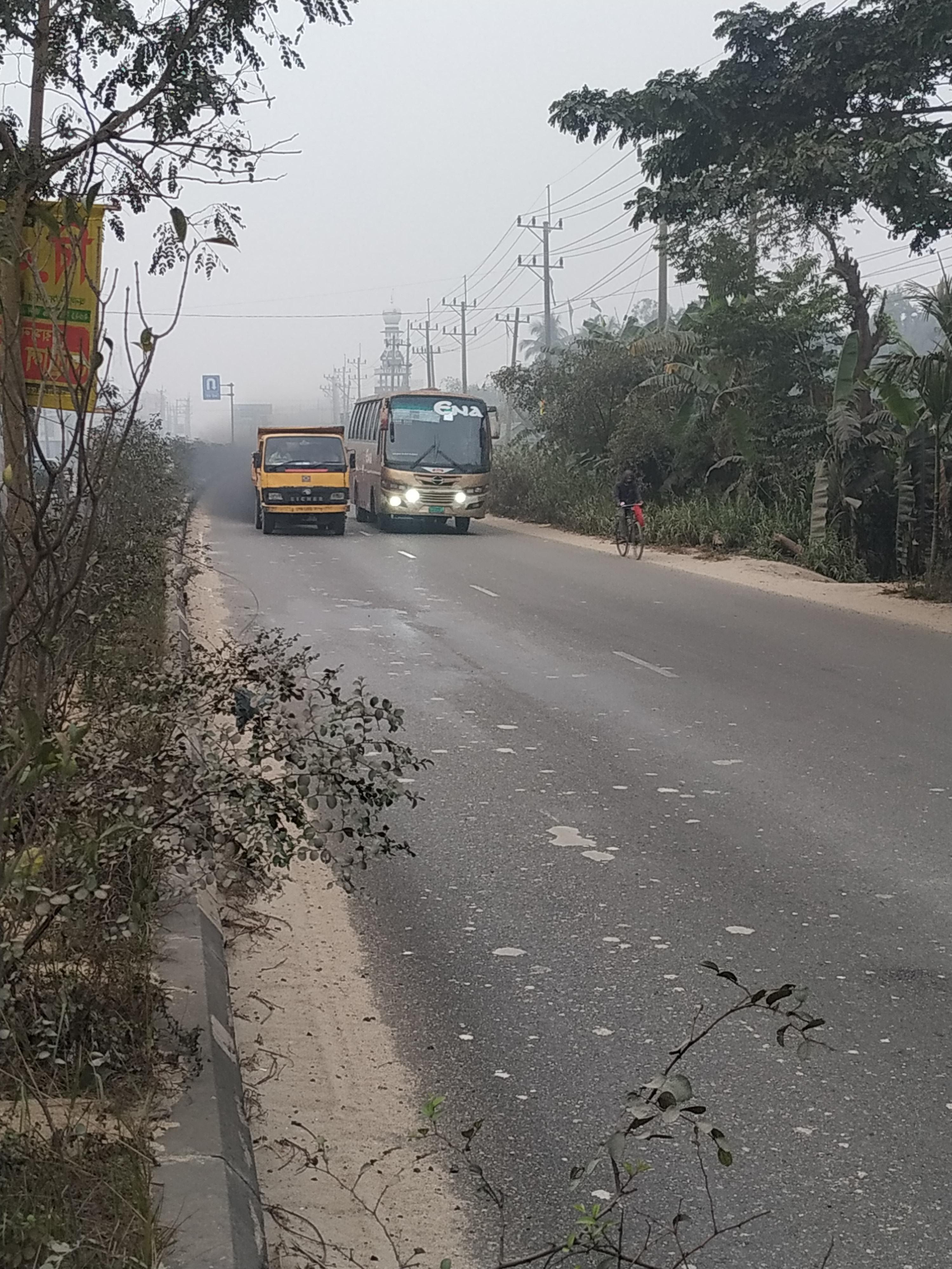Bus: (341, 366, 509, 554)
Truck: (227, 410, 366, 549)
